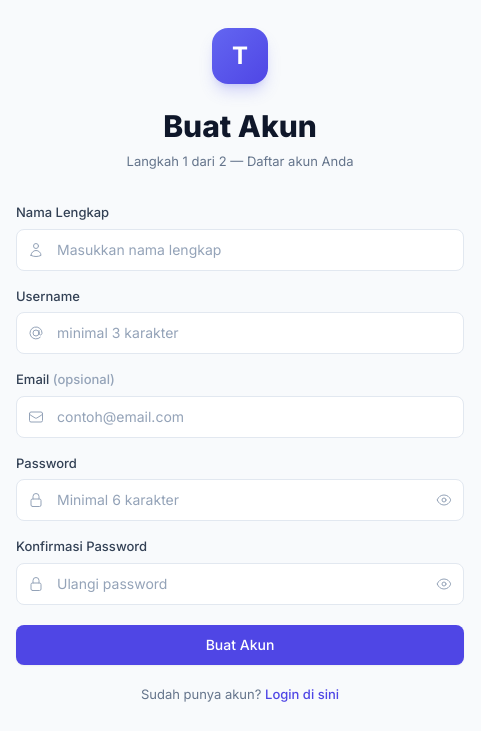
RegisterAccount › shows inline username error when backend rejects duplicate username
This screenshot has width=481, height=731.
In the field with placeholder "Masukkan nama lengkap": {"x": 240, "y": 250} [16, 229, 464, 271], type "Admin Tirta"
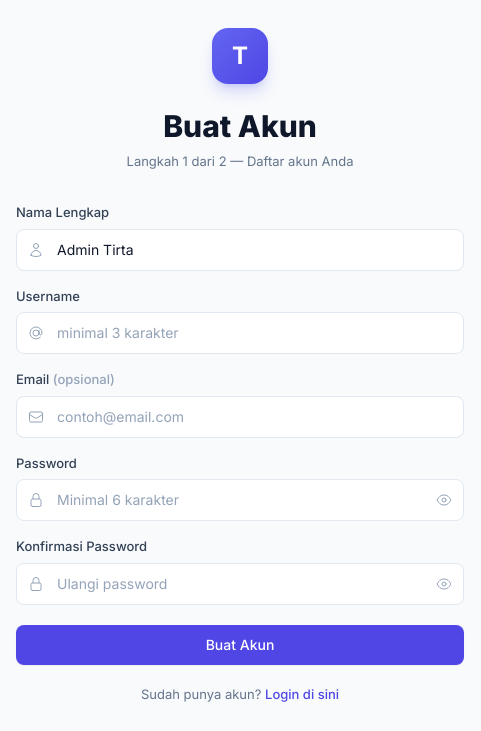
In the field with placeholder "minimal 3 karakter": {"x": 240, "y": 333} [16, 312, 464, 354], type "admin.tirta"
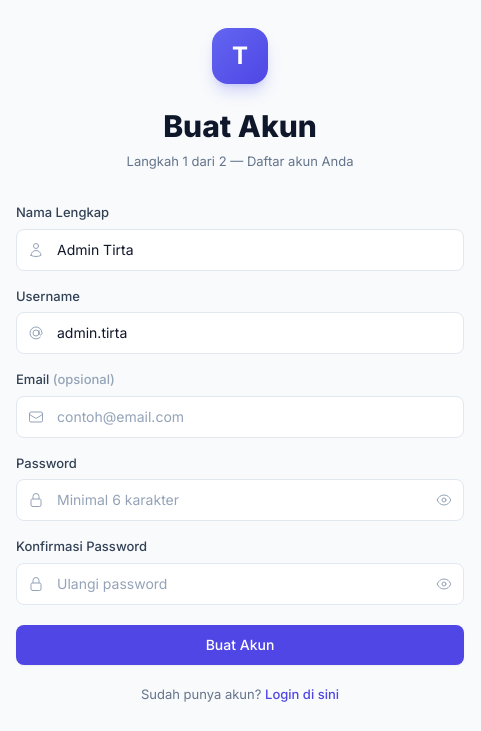
In the password field with placeholder "Minimal 6 karakter": {"x": 240, "y": 500} [16, 479, 464, 521], type "password123"
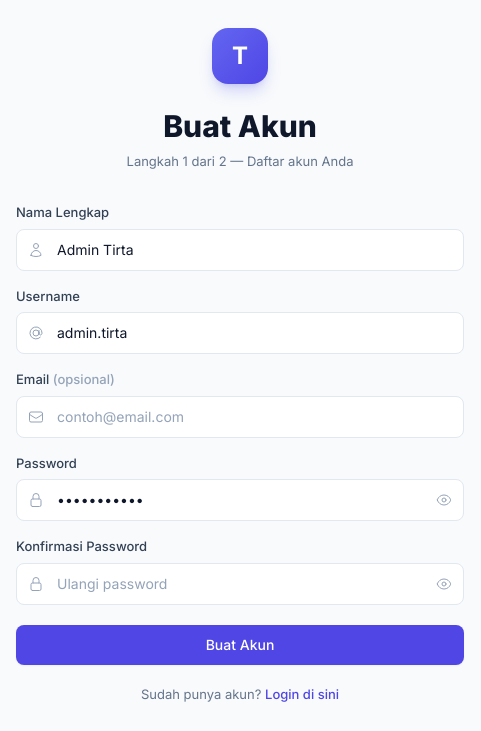
In the password field with placeholder "Ulangi password": {"x": 240, "y": 584} [16, 563, 464, 605], type "password123"
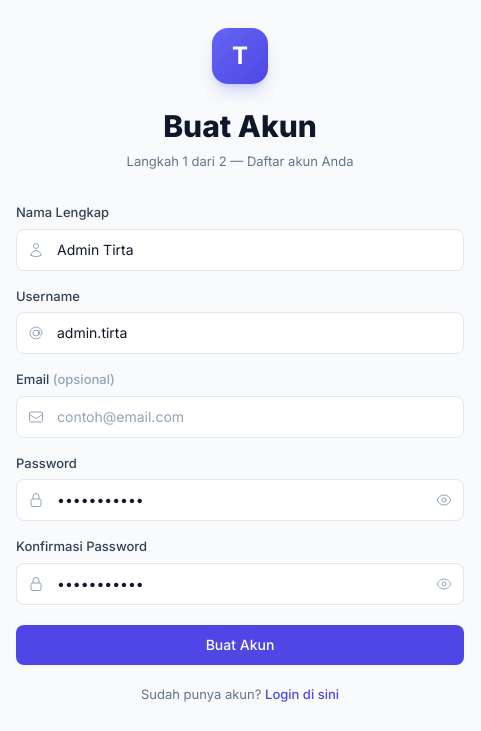
Click the button "Buat Akun": {"x": 240, "y": 645} [16, 625, 464, 665]
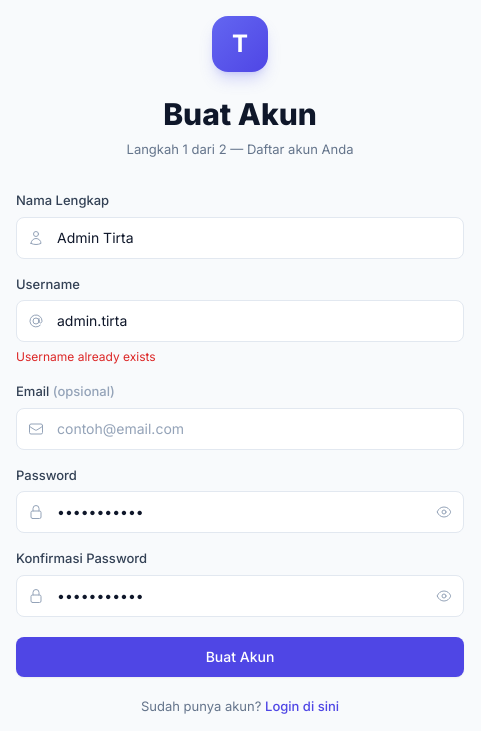
Expected: the text "Username already exists" is shown, [16, 349, 156, 364]
